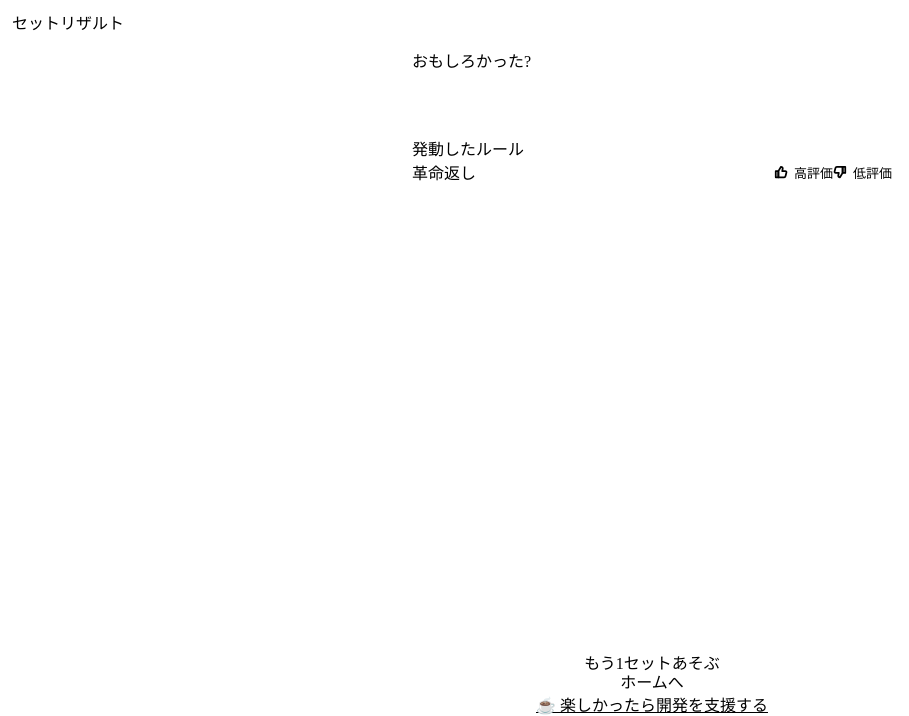
Test: CX-06: 実ルール発動イベントの演出 › 遅れて届いた初期取得を失敗時の巻き戻し先に使わない
What coordinates should you click on to do the following:
click the button "高評価"
I would click on:
 (804, 172)
Its box is [774,162,833,182].
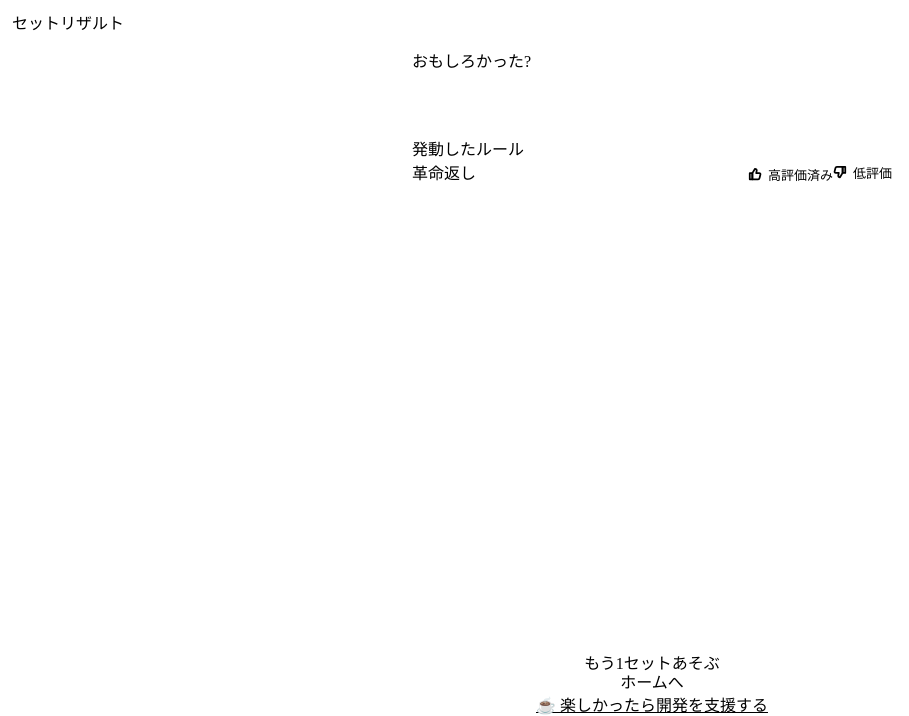
What coordinates should you click on to do the following:
click the button "低評価"
I would click on:
 (862, 172)
Its box is [833,162,892,182].
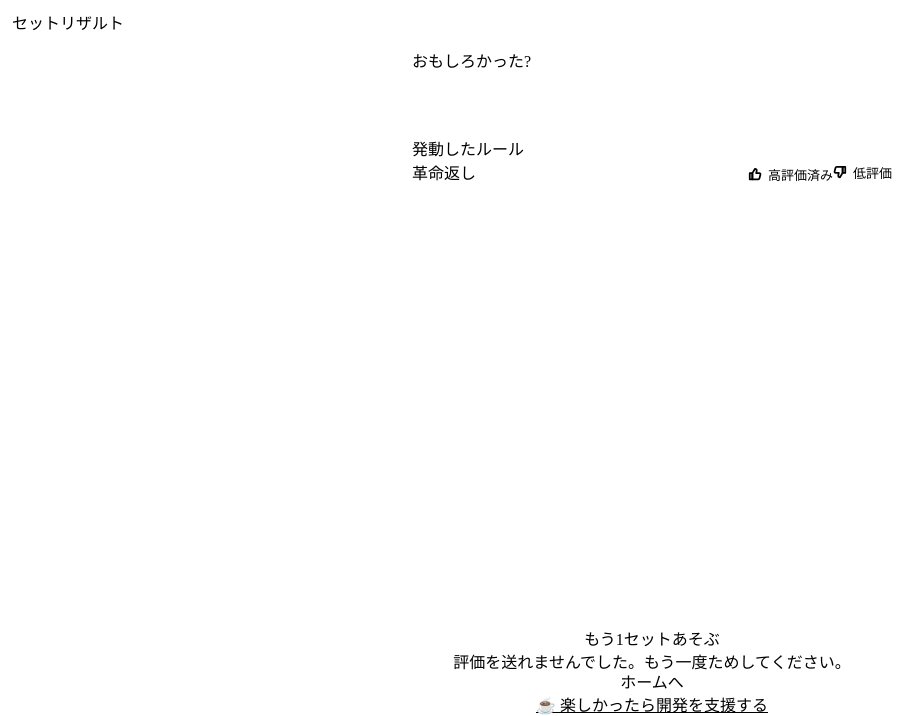
Check: the text "評価を送れませんでした。もう一度ためしてください。" is shown, box [453,654,851,671]
